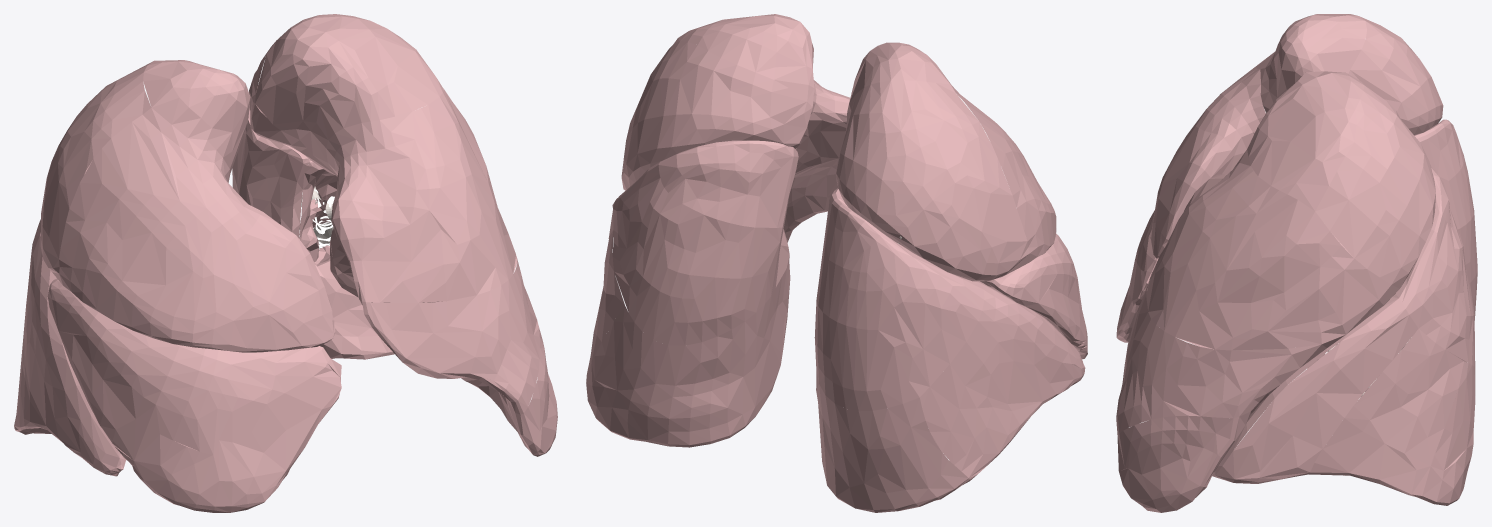
The model's file is lungs.glb.
The picture shows the model from 3 angles, left to right: view 1: azimuth 30°, elevation 25°; view 2: azimuth 150°, elevation 25°; view 3: azimuth 270°, elevation 25°; orthographic projection. The views are drawn at different scales.
Parts seen in each view (by area): view 1: VH_M_right_anterior_bronchopulmonary_segment, VH_M_left_anterior_bronchopulmonary_segment, VH_M_right_medial_bronchopulmonary_segment, VH_M_left_apical_bronchopulmonary_segment, VH_M_left_lingula_superior_bronchopulmonary_segment, VH_M_right_lateral_bronchopulmonary_segment, VH_M_right_apical_bronchopulmonary_segment, VH_M_right_posterior_bronchopulmonary_segment, VH_M_right_anterior_basal_bronchopulmonary_segment, VH_M_left_superior_bronchopulmonary_segment, VH_M_left_lingula_inferior_bronchopulmonary_segment, VH_M_left_medial_basal_bronchopulmonary_segment (+5 smaller); view 2: VH_M_left_superior_bronchopulmonary_segment, VH_M_right_posterior_bronchopulmonary_segment, VH_M_right_superior_bronchopulmonary_segment, VH_M_left_posetrior_basal_bronchopulmonary_segment, VH_M_left_posterior_bronchopulmonary_segment, VH_M_right_posterior_basal_bronchopulmonary_segment, VH_M_right_lateral_basal_bronchopulmonary_segment, VH_M_left_apical_bronchopulmonary_segment, VH_M_right_anterior_basal_bronchopulmonary_segment, VH_M_right_lateral_bronchopulmonary_segment, VH_M_right_anterior_bronchopulmonary_segment, VH_M_right_apical_bronchopulmonary_segment (+3 smaller); view 3: VH_M_left_anterior_bronchopulmonary_segment, VH_M_left_lateral_basal_bronchopulmonary_segment, VH_M_left_posterior_bronchopulmonary_segment, VH_M_left_anterior_basal_bronchopulmonary_segment, VH_M_left_lingula_superior_bronchopulmonary_segment, VH_M_left_apical_bronchopulmonary_segment, VH_M_left_lingula_inferior_bronchopulmonary_segment, VH_M_right_anterior_bronchopulmonary_segment, VH_M_left_superior_bronchopulmonary_segment, VH_M_right_posterior_bronchopulmonary_segment, VH_M_right_apical_bronchopulmonary_segment, VH_M_left_posetrior_basal_bronchopulmonary_segment (+3 smaller).
Boxes of the visible parts, bbox=[...] form: VH_M_right_anterior_bronchopulmonary_segment: bbox=[59, 108, 335, 352]; VH_M_left_anterior_bronchopulmonary_segment: bbox=[326, 89, 517, 302]; VH_M_right_medial_bronchopulmonary_segment: bbox=[132, 345, 341, 512]; VH_M_left_apical_bronchopulmonary_segment: bbox=[255, 14, 443, 162]; VH_M_left_lingula_superior_bronchopulmonary_segment: bbox=[359, 256, 539, 414]; VH_M_right_lateral_bronchopulmonary_segment: bbox=[47, 278, 179, 465]; VH_M_right_apical_bronchopulmonary_segment: bbox=[143, 60, 250, 182]; VH_M_right_posterior_bronchopulmonary_segment: bbox=[40, 61, 152, 284]; VH_M_right_anterior_basal_bronchopulmonary_segment: bbox=[31, 270, 125, 476]; VH_M_left_superior_bronchopulmonary_segment: bbox=[232, 86, 313, 238]; VH_M_left_lingula_inferior_bronchopulmonary_segment: bbox=[330, 245, 557, 456]; VH_M_left_medial_basal_bronchopulmonary_segment: bbox=[320, 271, 394, 359]; VH_M_left_superior_bronchopulmonary_segment: bbox=[612, 140, 798, 345]; VH_M_right_posterior_bronchopulmonary_segment: bbox=[836, 80, 1029, 281]; VH_M_right_superior_bronchopulmonary_segment: bbox=[814, 188, 984, 411]; VH_M_left_posetrior_basal_bronchopulmonary_segment: bbox=[586, 262, 790, 447]; VH_M_left_posterior_bronchopulmonary_segment: bbox=[623, 41, 812, 186]; VH_M_right_posterior_basal_bronchopulmonary_segment: bbox=[816, 371, 969, 512]; VH_M_right_lateral_basal_bronchopulmonary_segment: bbox=[919, 321, 1042, 480]; VH_M_left_apical_bronchopulmonary_segment: bbox=[674, 14, 814, 106]; VH_M_right_anterior_basal_bronchopulmonary_segment: bbox=[978, 281, 1085, 403]; VH_M_right_lateral_bronchopulmonary_segment: bbox=[980, 233, 1086, 349]; VH_M_right_anterior_bronchopulmonary_segment: bbox=[951, 85, 1056, 261]; VH_M_right_apical_bronchopulmonary_segment: bbox=[849, 42, 951, 102]; VH_M_left_anterior_bronchopulmonary_segment: bbox=[1146, 149, 1399, 350]; VH_M_left_lateral_basal_bronchopulmonary_segment: bbox=[1309, 328, 1463, 497]; VH_M_left_posterior_bronchopulmonary_segment: bbox=[1315, 101, 1435, 288]; VH_M_left_anterior_basal_bronchopulmonary_segment: bbox=[1212, 298, 1418, 483]; VH_M_left_lingula_superior_bronchopulmonary_segment: bbox=[1116, 282, 1395, 434]; VH_M_left_apical_bronchopulmonary_segment: bbox=[1247, 71, 1386, 210]; VH_M_left_lingula_inferior_bronchopulmonary_segment: bbox=[1117, 404, 1259, 512]; VH_M_right_anterior_bronchopulmonary_segment: bbox=[1151, 51, 1275, 258]; VH_M_left_superior_bronchopulmonary_segment: bbox=[1395, 168, 1475, 366]; VH_M_right_posterior_bronchopulmonary_segment: bbox=[1348, 16, 1443, 134]; VH_M_right_apical_bronchopulmonary_segment: bbox=[1260, 14, 1366, 112]; VH_M_left_posetrior_basal_bronchopulmonary_segment: bbox=[1418, 361, 1475, 505].
Bounding box in the file's own units: 0.2594 × 0.2288 × 0.1897.
